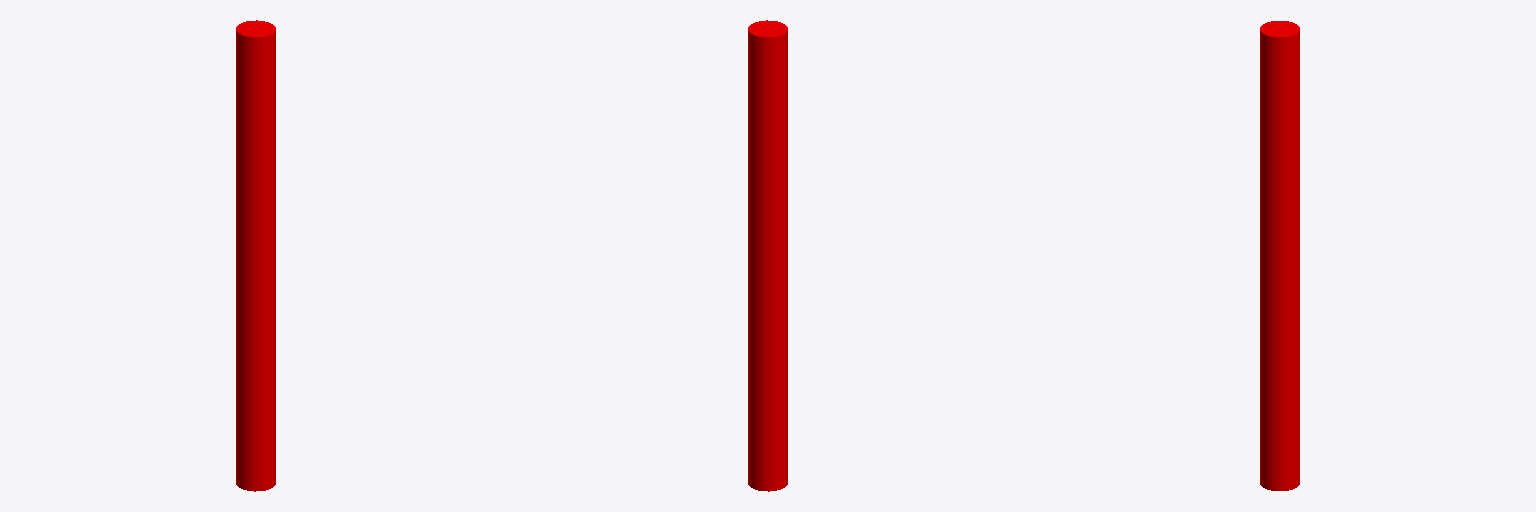
robot.urdf — red_cylinder:
<?xml version="1.0"?>
<robot name="red_cylinder">

  <link name="cylinder_link">
    <visual>
      <origin xyz="0 0 0" rpy="0 0 0"/>
      <geometry>
        <cylinder radius="0.2" length="5.0"/>
      </geometry>
      <material name="red">
        <color rgba="1 0 0 1"/>
      </material>
    </visual>
    
    <collision>
      <origin xyz="0 0 0" rpy="0 0 0"/>
      <geometry>
        <cylinder radius="0.3" length="5.0"/>
      </geometry>
    </collision>
    
    <inertial>
      <origin xyz="0 0 0" rpy="0 0 0"/>
      <mass value="1.0"/>
      <inertia ixx="0.02" ixy="0" ixz="0" iyy="0.02" iyz="0" izz="0.02"/>
    </inertial>
  </link>

</robot>

--- Render facts (derived) ---
The picture shows the robot from 3 angles, left to right: view 1: azimuth 30°, elevation 25°; view 2: azimuth 150°, elevation 25°; view 3: azimuth 270°, elevation 25°; orthographic projection.
Robot: red_cylinder — 1 links, 0 joints (none); root link cylinder_link; default pose: every joint at zero.
Visible links, largest first — view 1: cylinder_link; view 2: cylinder_link; view 3: cylinder_link.
Boxes of the visible links, bbox=[...] form: cylinder_link: bbox=[236, 20, 275, 491]; cylinder_link: bbox=[748, 20, 787, 491]; cylinder_link: bbox=[1260, 21, 1299, 490].
Size in the robot's own frame: 0.4 by 0.4 by 5 metres.
Geometry: primitives only (box / cylinder / sphere), no mesh files.